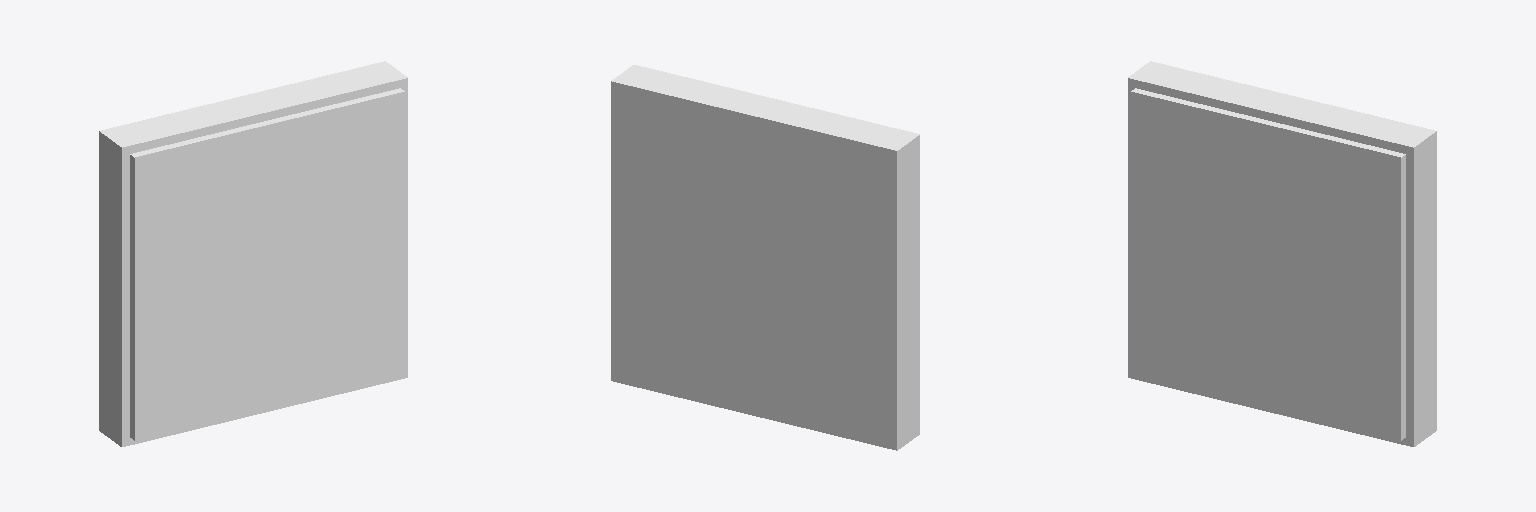
The model's file is fenetre-11.obj.
3 views of the same model, side by side, from view 1: azimuth 30°, elevation 25°; view 2: azimuth 150°, elevation 25°; view 3: azimuth 330°, elevation 25° (orthographic).
Visible parts, largest first — view 1: object 1; view 2: object 1; view 3: object 1.
Part boxes in pixels (bbox=[...]): object 1: bbox=[99, 61, 407, 446]; object 1: bbox=[611, 65, 919, 450]; object 1: bbox=[1128, 61, 1436, 446].
Size of the model in its own units: 3.6 by 3.6 by 0.6.